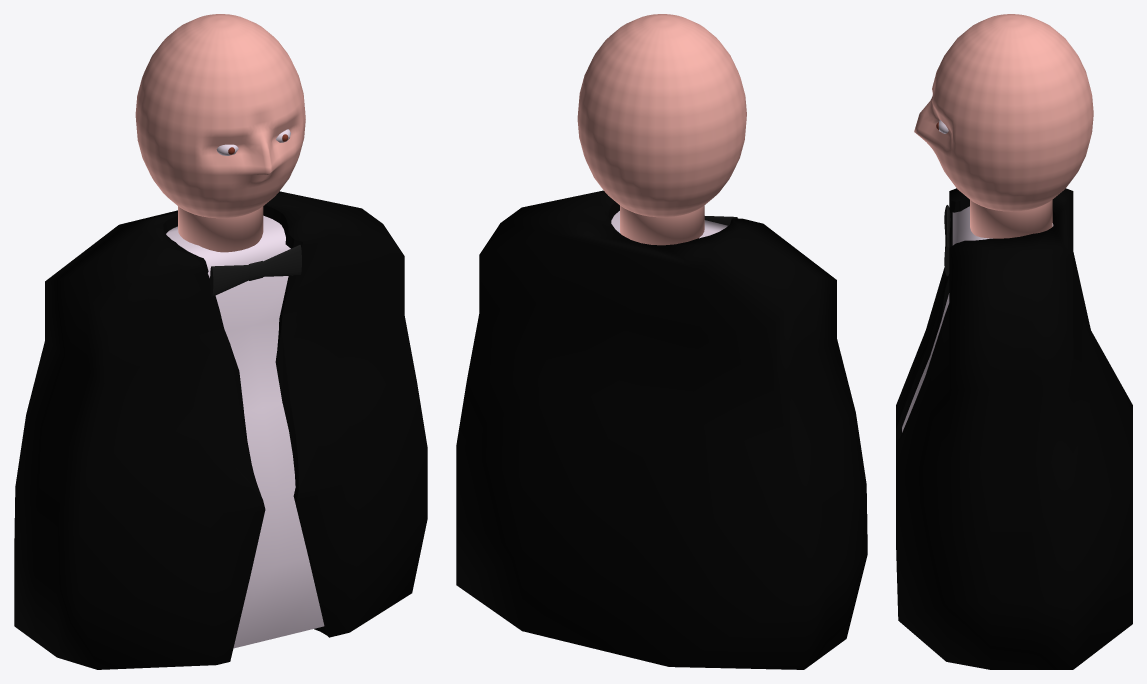
The model's file is pavarotti.glb.
3 renders of one model, left to right at view 1: azimuth 30°, elevation 25°; view 2: azimuth 150°, elevation 25°; view 3: azimuth 270°, elevation 25°, orthographic. The views are drawn at different scales.
Parts seen in each view (by area): view 1: Cube.001, Sphere, Cube, Cylinder, Cylinder.001; view 2: Cube.001, Sphere, Cylinder; view 3: Cube.001, Sphere, Cylinder, Cube, Cylinder.001.
Boxes of the visible parts, x1=… form: Cube.001: x1=14, y1=191, x2=427, y2=669; Sphere: x1=135, y1=14, x2=305, y2=218; Cube: x1=166, y1=215, x2=324, y2=648; Cylinder: x1=178, y1=206, x2=263, y2=252; Cylinder.001: x1=210, y1=245, x2=301, y2=296; Cube.001: x1=456, y1=190, x2=867, y2=669; Sphere: x1=577, y1=14, x2=746, y2=217; Cylinder: x1=620, y1=205, x2=704, y2=245; Cube.001: x1=896, y1=188, x2=1132, y2=669; Sphere: x1=914, y1=14, x2=1093, y2=211; Cylinder: x1=970, y1=200, x2=1052, y2=238; Cube: x1=902, y1=206, x2=1053, y2=432; Cylinder.001: x1=944, y1=205, x2=950, y2=276.
Size of the model in its own units: 0.4731 by 0.7587 by 0.287.
